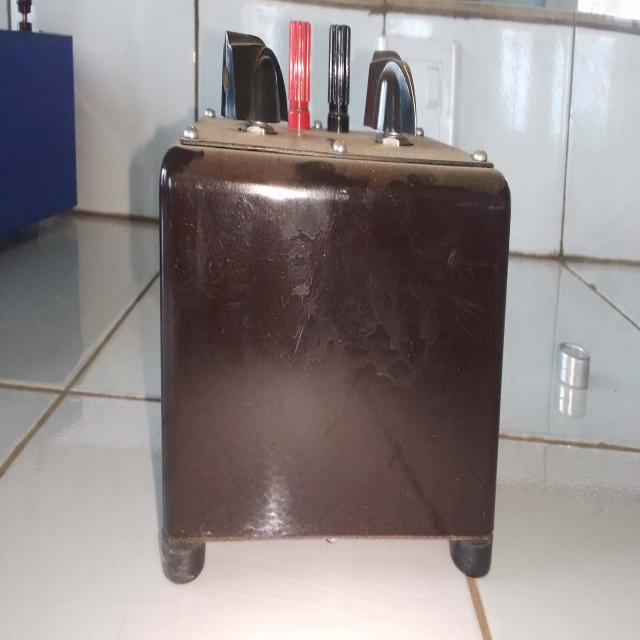Decade Capacitance Box: (145, 11, 512, 586)
